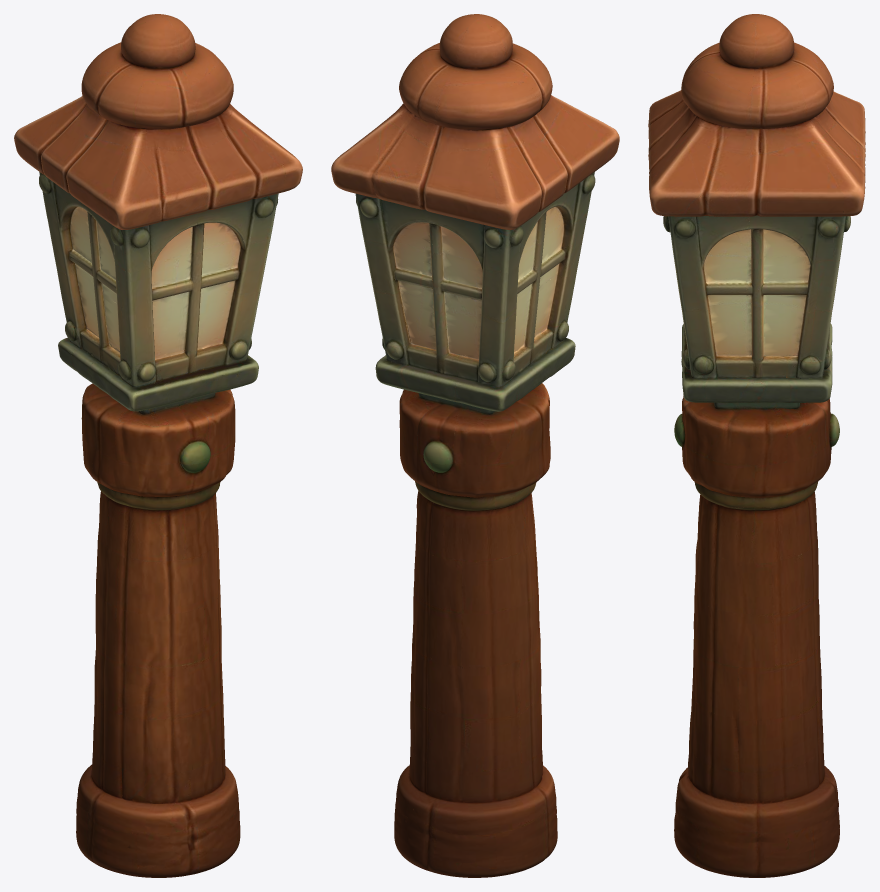
Rendered from wooden-lantern.glb.
3 renders of one model, left to right at view 1: azimuth 30°, elevation 25°; view 2: azimuth 150°, elevation 25°; view 3: azimuth 270°, elevation 25°, orthographic.
Visible parts, largest first — view 1: mesh_node; view 2: mesh_node; view 3: mesh_node.
Boxes of the visible parts, x1,y1,x2,y2 form: mesh_node: (14,14,302,877); mesh_node: (331,14,619,877); mesh_node: (648,14,865,877).
Size of the model in its own units: 0.451 by 1.9 by 0.4507.
1 material, 1 textured.
